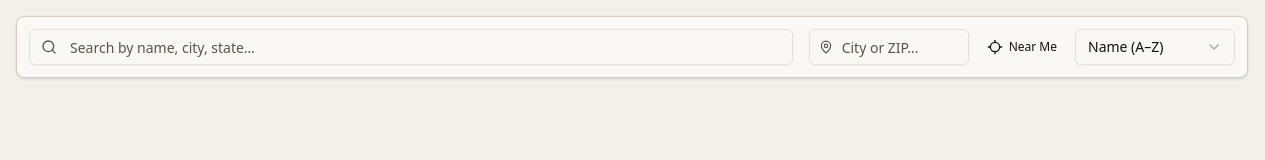
Test: SearchHeader › should show a no-results message when suggestions come back empty
The width and height of the screenshot is (1265, 160).
Type "zzzznowhere" into the dropdown named "Search by location" at [889, 47], box [809,29,969,65]
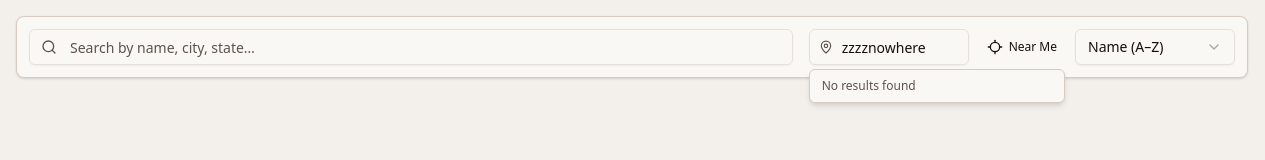
Expected: the text "No results found" is shown, [809,69,1065,103]
